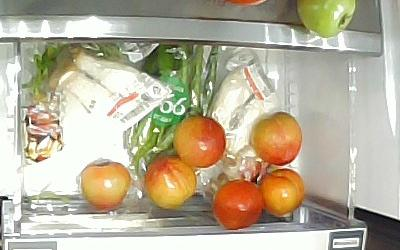prune: (171, 114, 226, 168), (248, 110, 302, 165), (143, 154, 196, 209), (210, 178, 263, 230), (79, 160, 131, 209), (257, 167, 305, 214)
